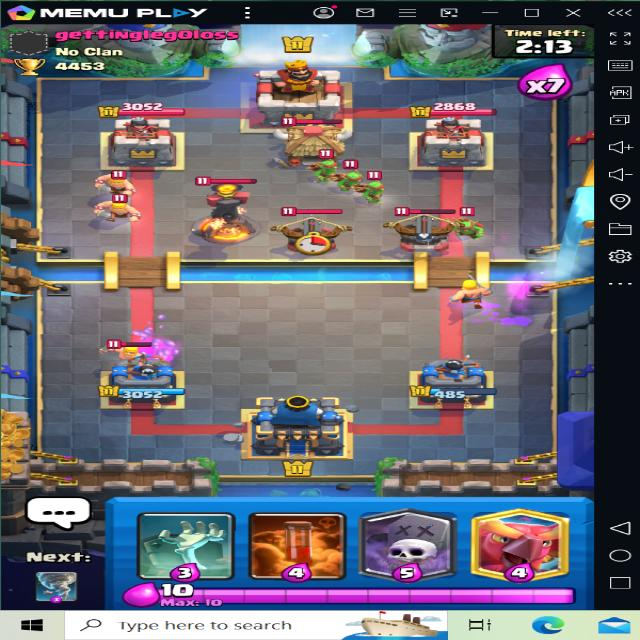barbarian: (90, 195, 148, 227), (85, 165, 142, 196), (105, 334, 154, 369)
goblin-hut: (273, 115, 353, 165)
inferno-tower: (180, 169, 266, 246)
spear-goblin: (360, 169, 396, 204), (447, 210, 483, 244), (338, 160, 362, 190), (313, 153, 338, 180)
x-bow: (386, 197, 466, 252), (269, 200, 348, 251)
